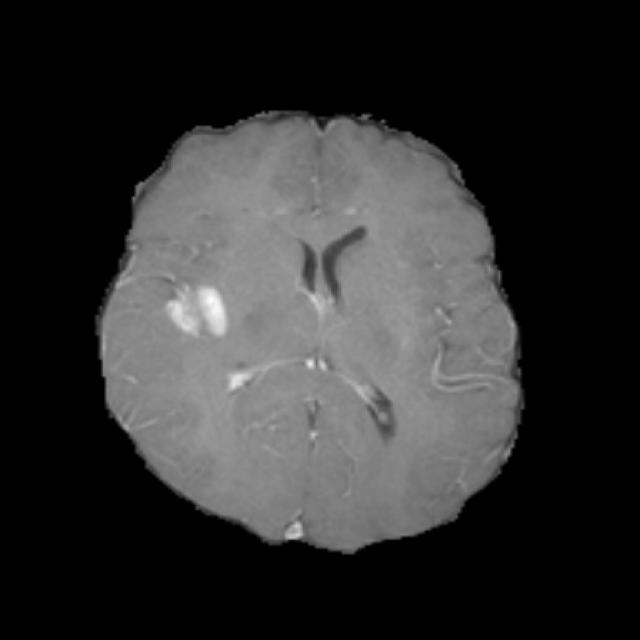positive: (168, 283, 226, 337)
